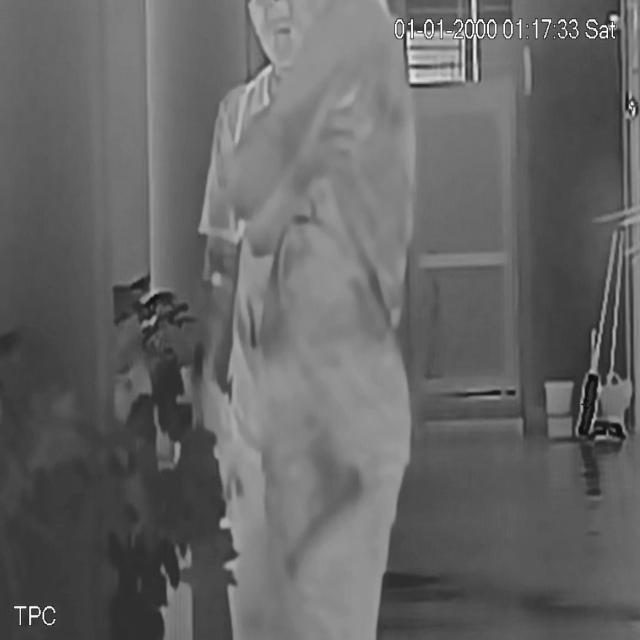Weapon: (289, 422, 368, 581)
